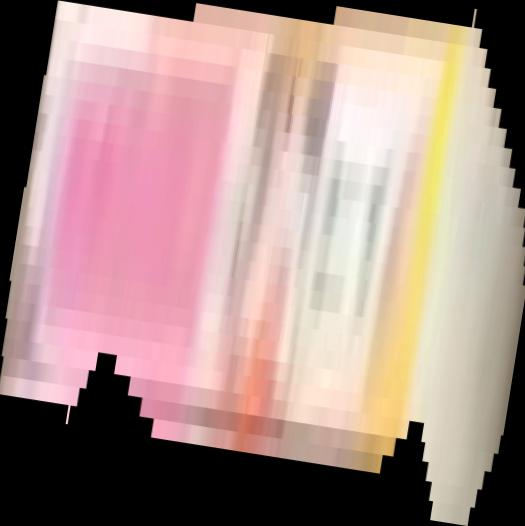flat: (1, 1, 525, 526)
